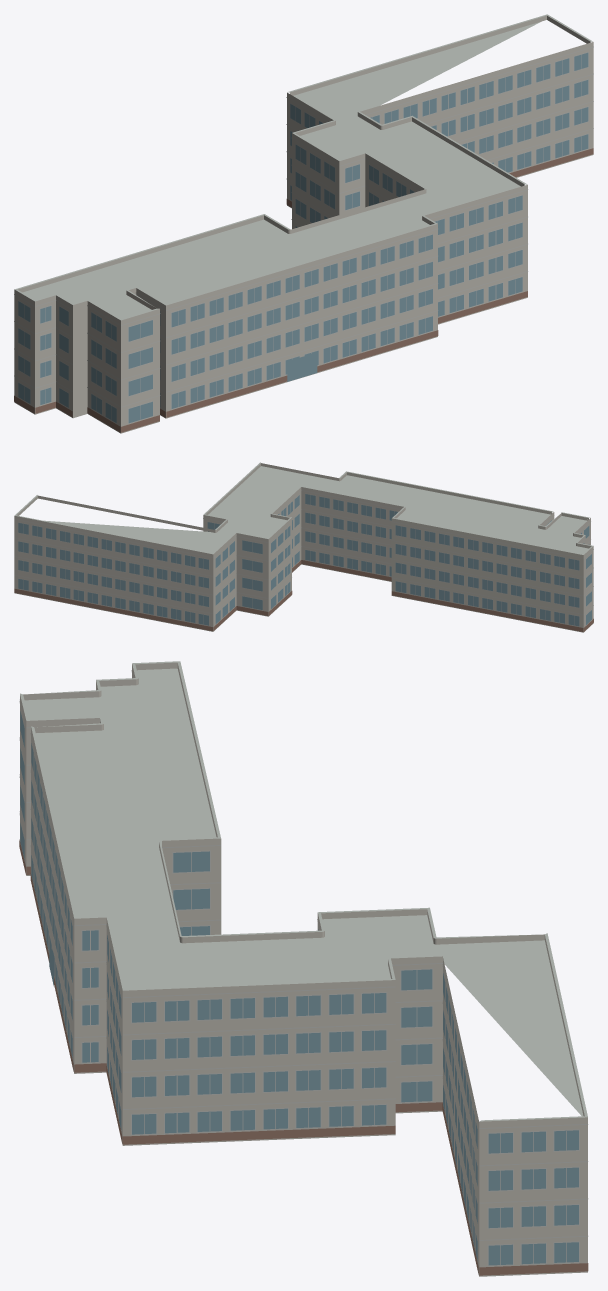
The model's file is public-844920fe-0095-4a01-b6c1-3c1255684324.glb.
3 views of the same model, one above another, from view 1: azimuth 30°, elevation 25°; view 2: azimuth 150°, elevation 25°; view 3: azimuth 270°, elevation 25° (orthographic). The views are drawn at different scales.
Visible parts, largest first — view 1: public-844920fe-0095-4a01-b6c1-3c1255684324; view 2: public-844920fe-0095-4a01-b6c1-3c1255684324; view 3: public-844920fe-0095-4a01-b6c1-3c1255684324.
Boxes of the visible parts, left/top/right/bottom form: public-844920fe-0095-4a01-b6c1-3c1255684324: left=14, top=14, right=593, bottom=433; public-844920fe-0095-4a01-b6c1-3c1255684324: left=14, top=462, right=593, bottom=632; public-844920fe-0095-4a01-b6c1-3c1255684324: left=19, top=661, right=588, bottom=1276.
Size of the model in its own units: 108 by 17 by 56.57.
